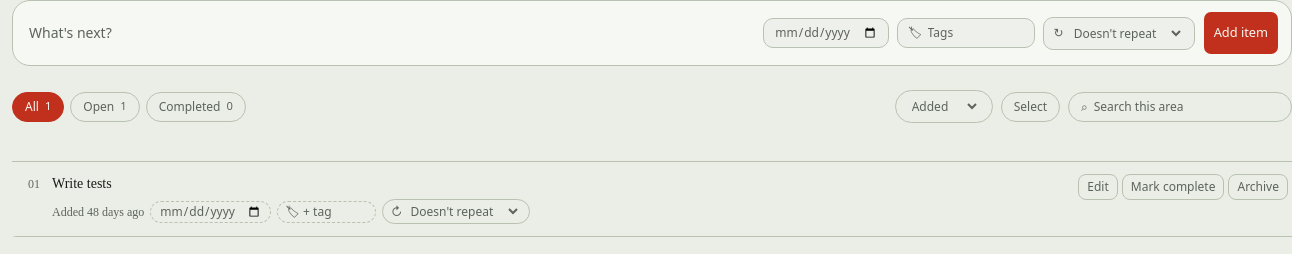
TaskWorkspace › waits for the server before marking a task complete
Click the button "Mark complete". click: (1173, 187)
box: [1122,174,1224,200]
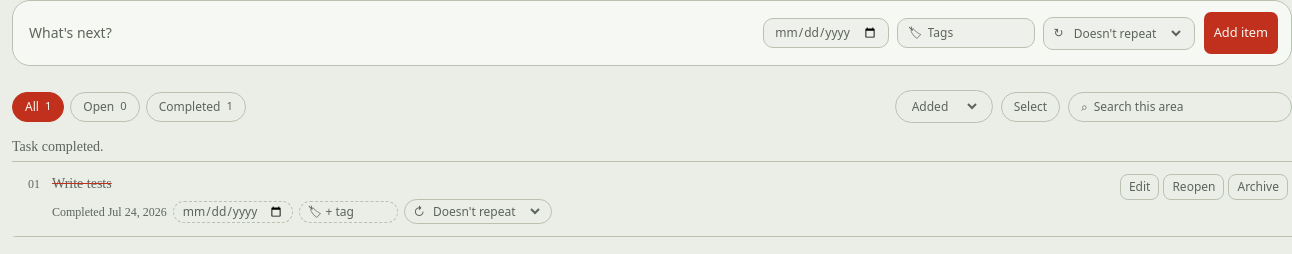
Expected: the button "Reopen" is shown, [1163,174,1224,200]
